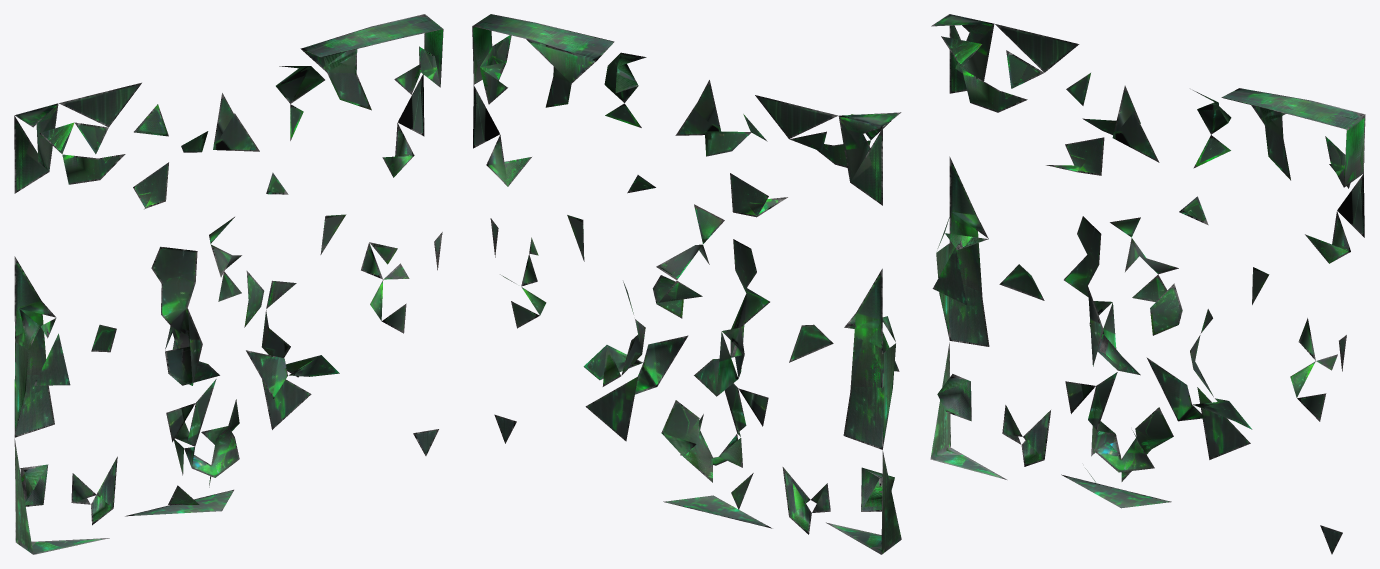
Rendered from digital_walls_made_of_1019161512_texture.obj.
The picture shows the model from 3 angles, left to right: view 1: azimuth 30°, elevation 25°; view 2: azimuth 150°, elevation 25°; view 3: azimuth 330°, elevation 25°; orthographic projection.
Parts seen in each view (by area): view 1: digital_walls_made_of_1019161512_texture; view 2: digital_walls_made_of_1019161512_texture; view 3: digital_walls_made_of_1019161512_texture.
Part boxes in pixels (bbox=[...]): digital_walls_made_of_1019161512_texture: bbox=[14, 14, 443, 554]; digital_walls_made_of_1019161512_texture: bbox=[472, 14, 901, 554]; digital_walls_made_of_1019161512_texture: bbox=[930, 14, 1365, 554].
Size of the model in its own units: 1.91 by 1.91 by 0.156.
